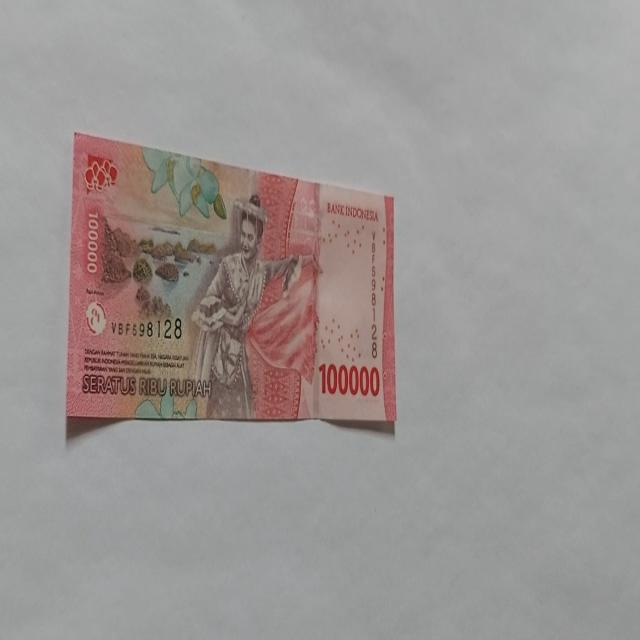seratus ribu rupiah: (66, 132, 397, 430), (188, 194, 306, 418)
